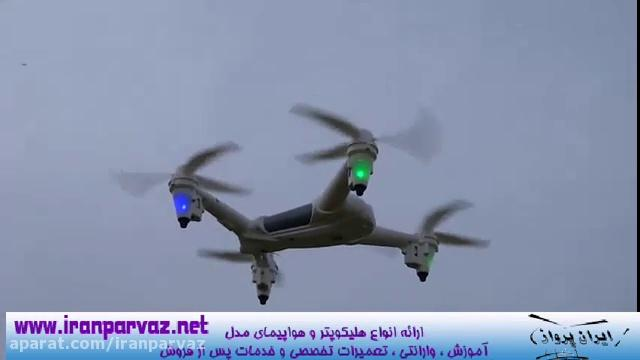drone: (106, 93, 498, 308)
